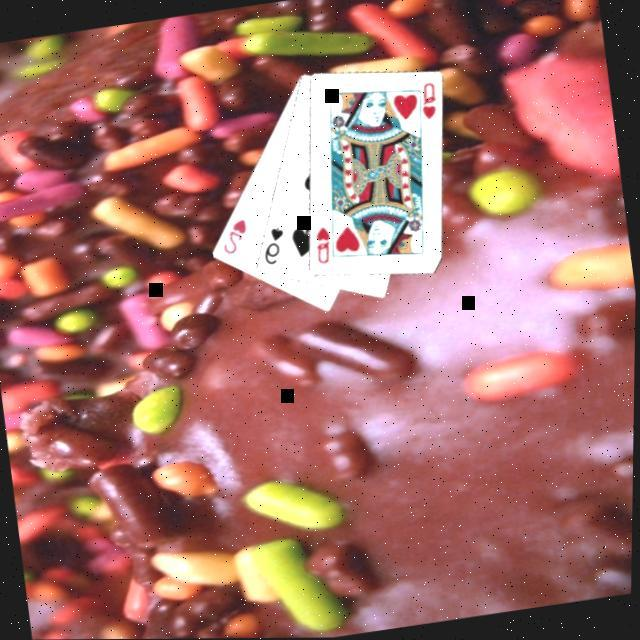2H: (215, 214, 253, 258)
6S: (257, 222, 291, 267)
QH: (410, 77, 442, 126), (309, 222, 336, 267)
